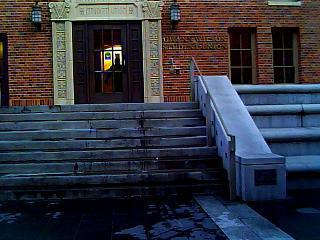Escaleras: (0, 105, 225, 195)
